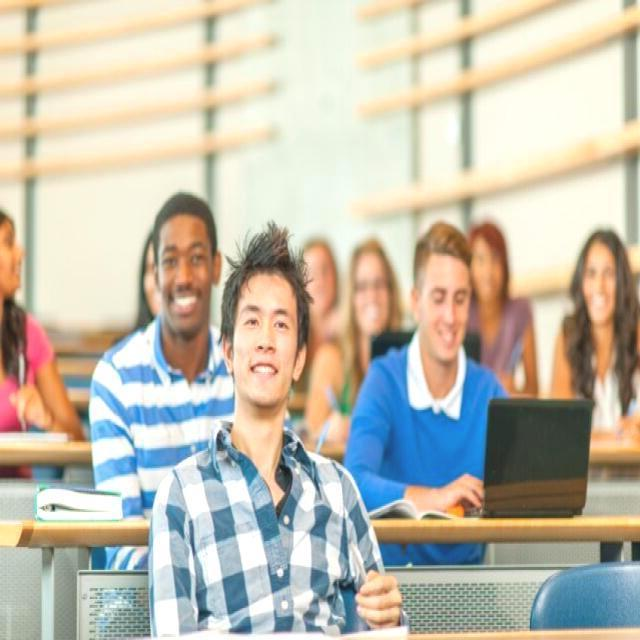Looking away: (410, 234, 474, 368)
Looking forward: (233, 276, 298, 406), (160, 212, 213, 338)
